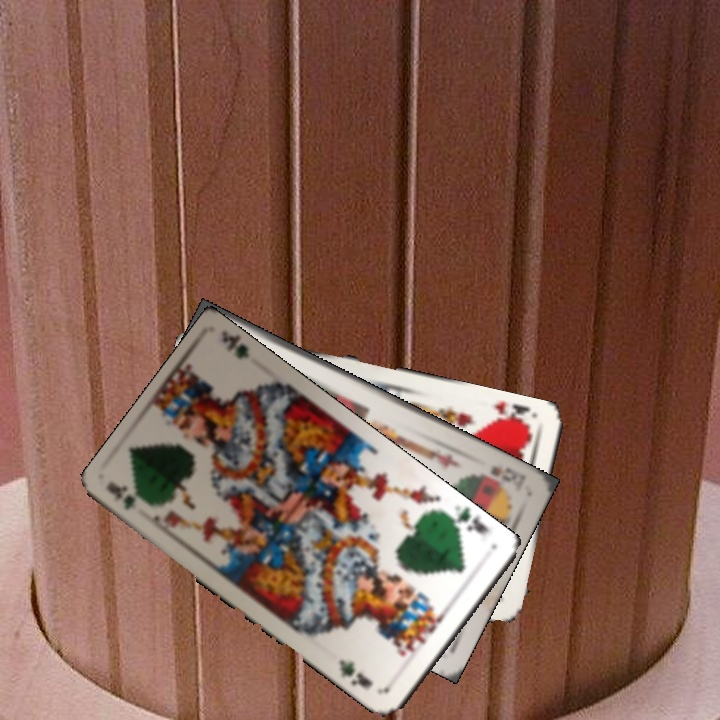GK: (444, 501, 493, 537), (103, 477, 139, 513)
HK: (488, 397, 533, 431)
SK: (486, 462, 527, 493)
